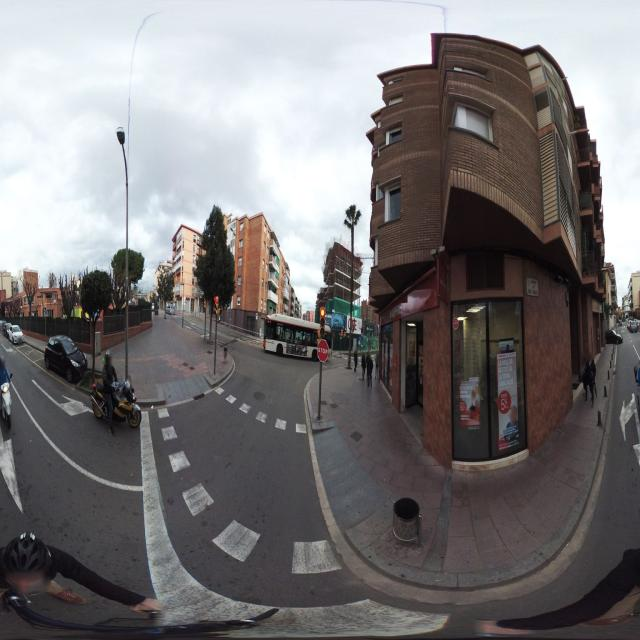forb_stopping: (361, 328, 363, 335)
